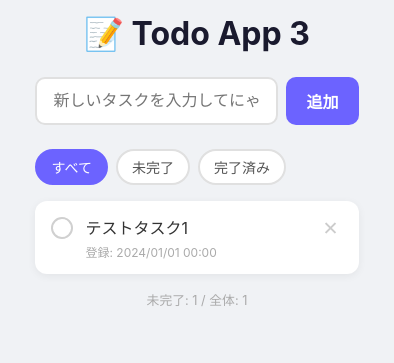
TodoApp › Todo削除（楽観的更新） › 削除に失敗するとエラーが表示されてTodoが復元される
Expected: the text "テストタスク1" is shown, [86,218,188,238]
Click the button titled "削除" at (330, 229), box [318,215,342,242]
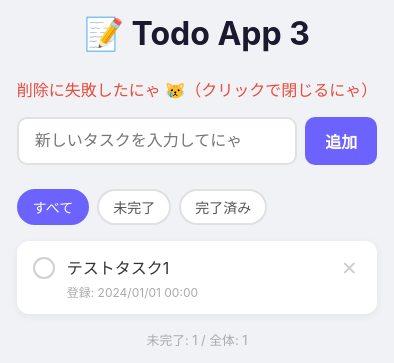
Expected: the text "テストタスク1" is shown, [67,258,169,278]
Result: the text "削除に失敗したにゃ 😿（クリックで閉じるにゃ）" is shown at [17,77,377,101]
